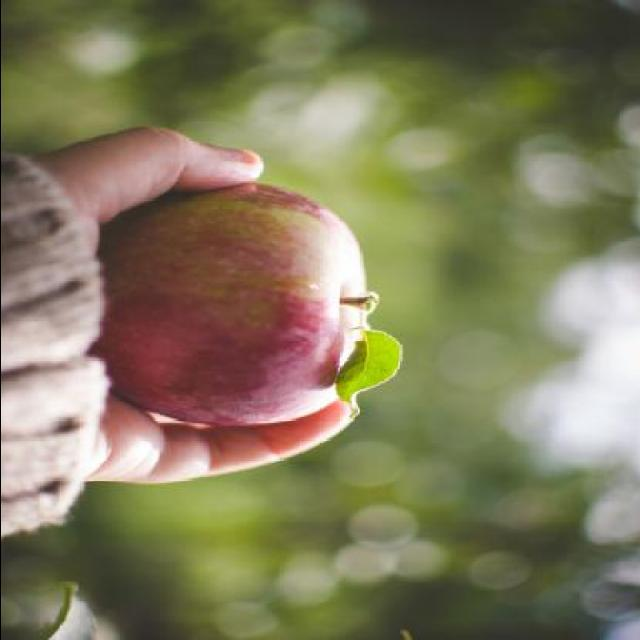Apple pie: (78, 182, 390, 424)
